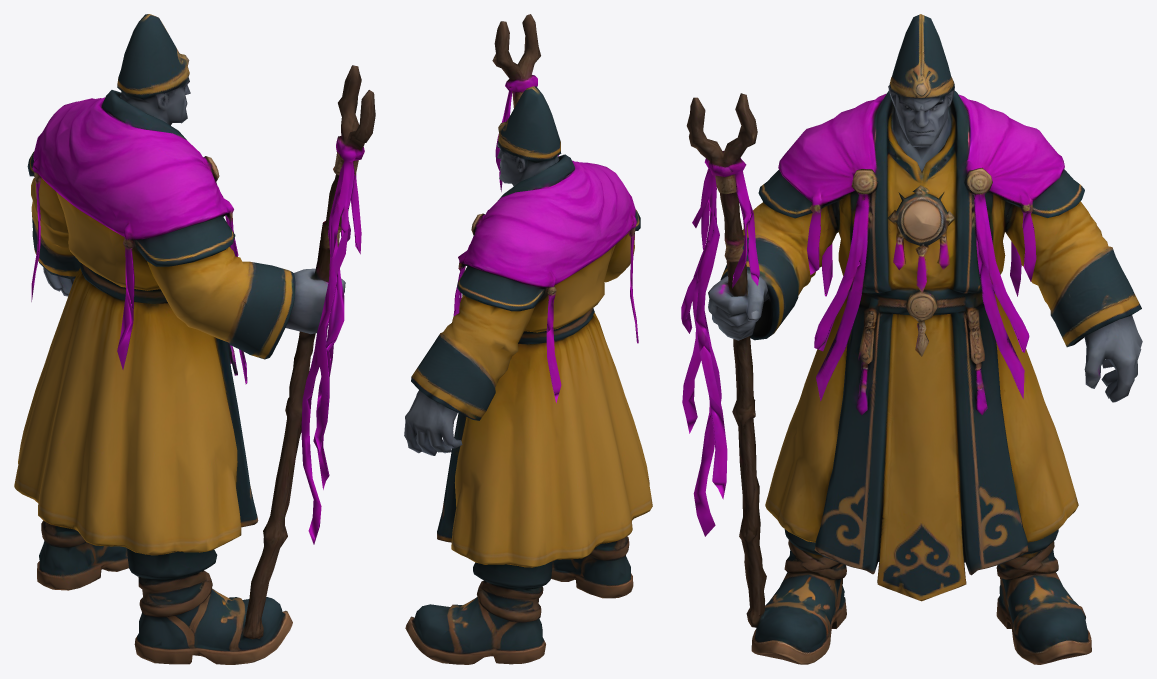
Rendered from model_tripo_h31.glb.
The picture shows the model from 3 angles, left to right: view 1: azimuth 30°, elevation 25°; view 2: azimuth 150°, elevation 25°; view 3: azimuth 270°, elevation 25°; orthographic projection. The views are drawn at different scales.
Visible parts, largest first — view 1: tripo_node_02ca02d2-925b-4fad-8950-0a25d5a0218c; view 2: tripo_node_02ca02d2-925b-4fad-8950-0a25d5a0218c; view 3: tripo_node_02ca02d2-925b-4fad-8950-0a25d5a0218c.
Boxes of the visible parts, <box> form: tripo_node_02ca02d2-925b-4fad-8950-0a25d5a0218c: <box>14,14,375,664</box>; tripo_node_02ca02d2-925b-4fad-8950-0a25d5a0218c: <box>404,14,652,664</box>; tripo_node_02ca02d2-925b-4fad-8950-0a25d5a0218c: <box>681,14,1142,664</box>.
Size of the model in its own units: 0.4118 by 1 by 0.671.
Materials: 1 (1 with a texture image).
